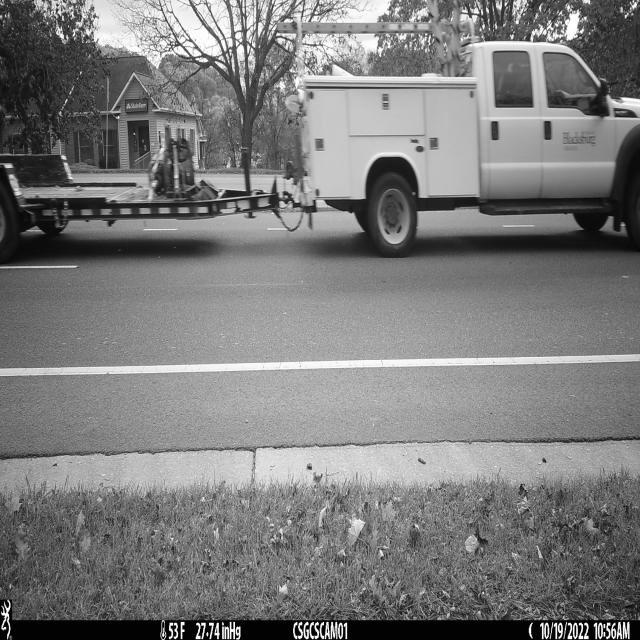Box Truck: (0, 147, 302, 265)
Pickup- Utility: (272, 0, 640, 259)
